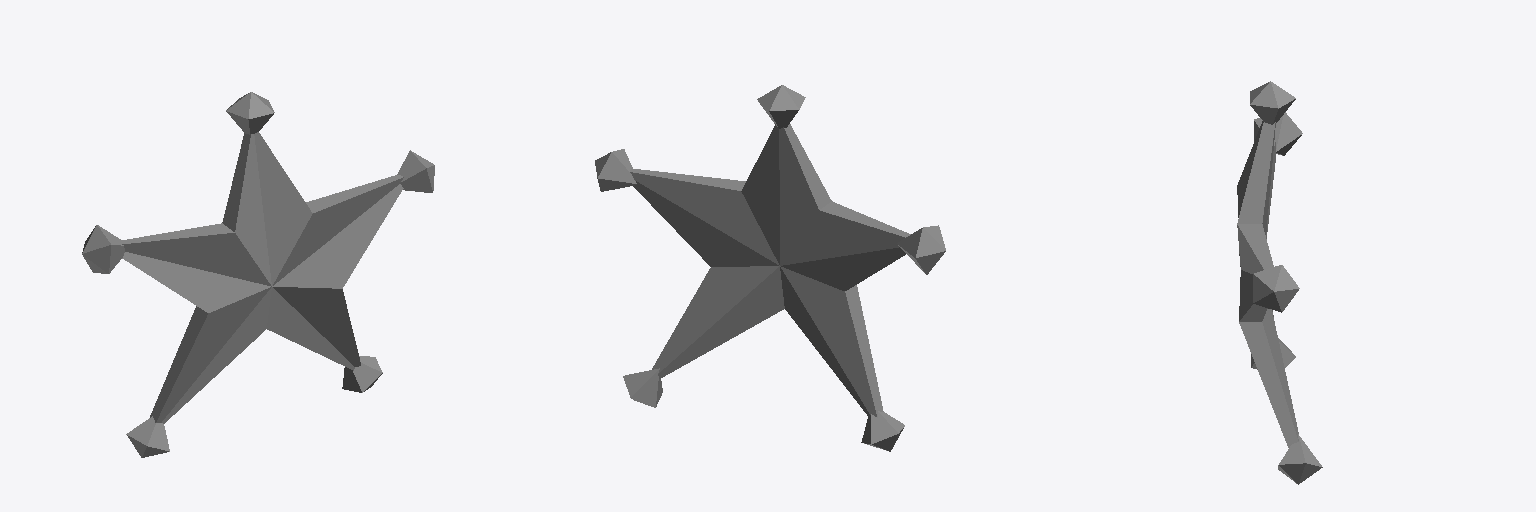
Rendered from sheriffbadge.obj.
The picture shows the model from 3 angles: view 1: azimuth 30°, elevation 25°; view 2: azimuth 150°, elevation 25°; view 3: azimuth 270°, elevation 25°; orthographic projection.
Visible parts, largest first — view 1: Box01; view 2: Box01; view 3: Box01.
Part boxes in pixels (x1,y1,x2,y2): Box01: (82, 92, 434, 457); Box01: (595, 85, 945, 451); Box01: (1237, 81, 1322, 484).
Bounding box in the file's own units: 64 × 59.04 × 13.49.